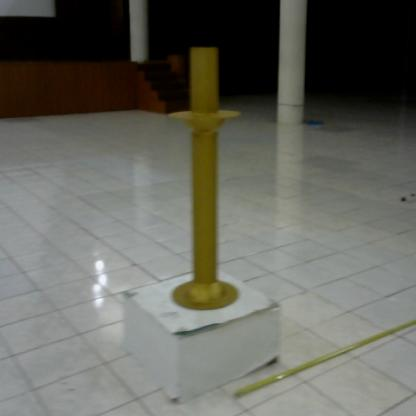pole: (166, 42, 249, 318)
